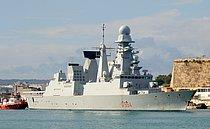MIL_Ship: (24, 22, 197, 112)
